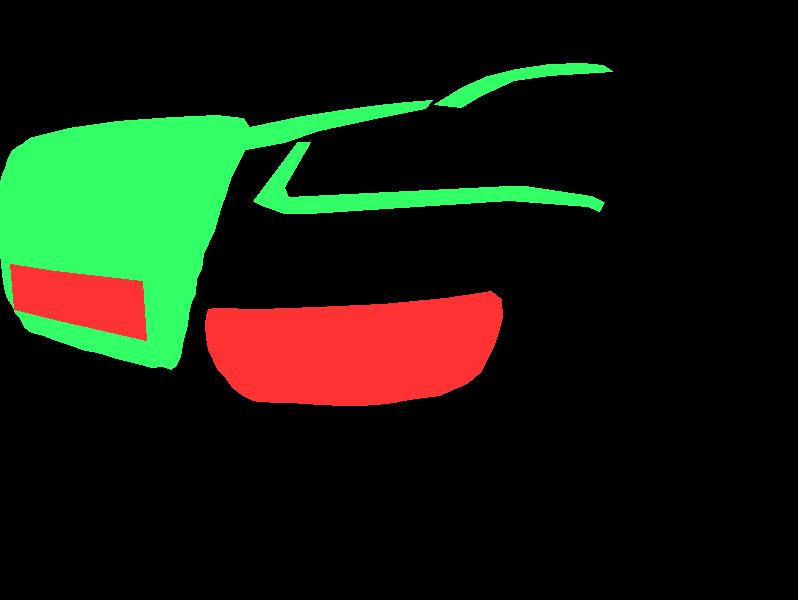Broken part: (0, 131, 245, 369), (253, 142, 604, 213), (19, 100, 432, 149), (434, 63, 612, 107)
Missing part: (205, 291, 502, 405), (10, 264, 146, 340)
